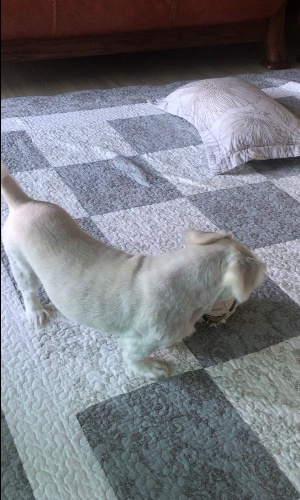ddubi: (2, 153, 266, 380)
